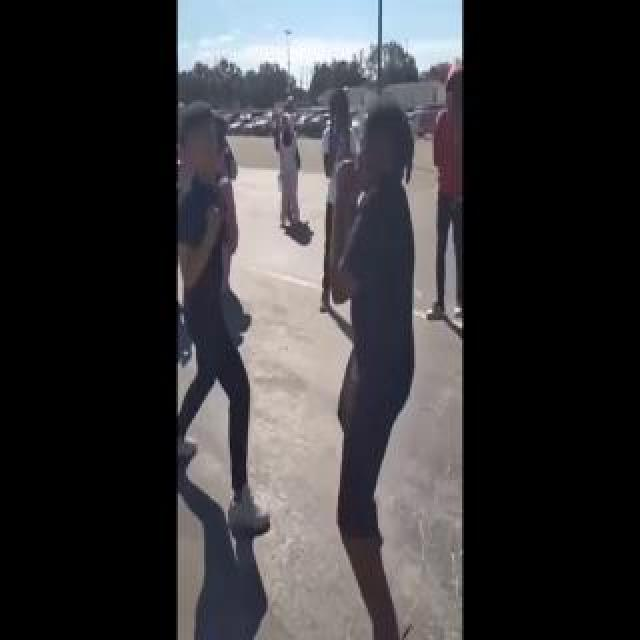fight: (171, 80, 429, 636)
